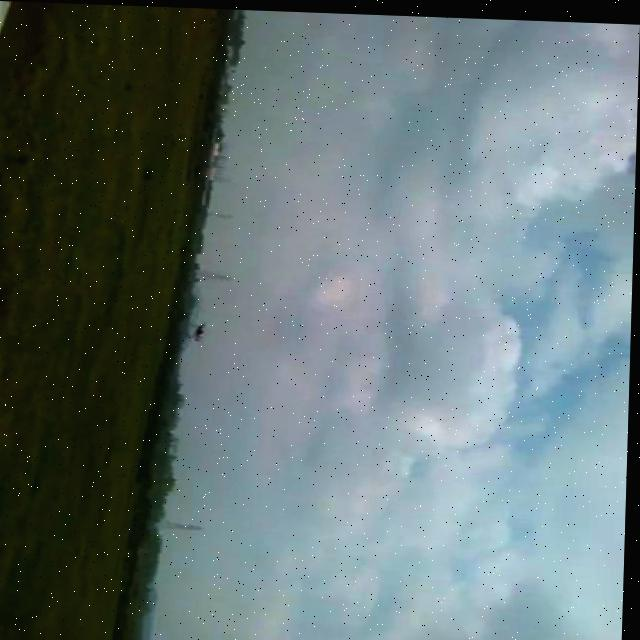drone: (190, 317, 215, 339)
